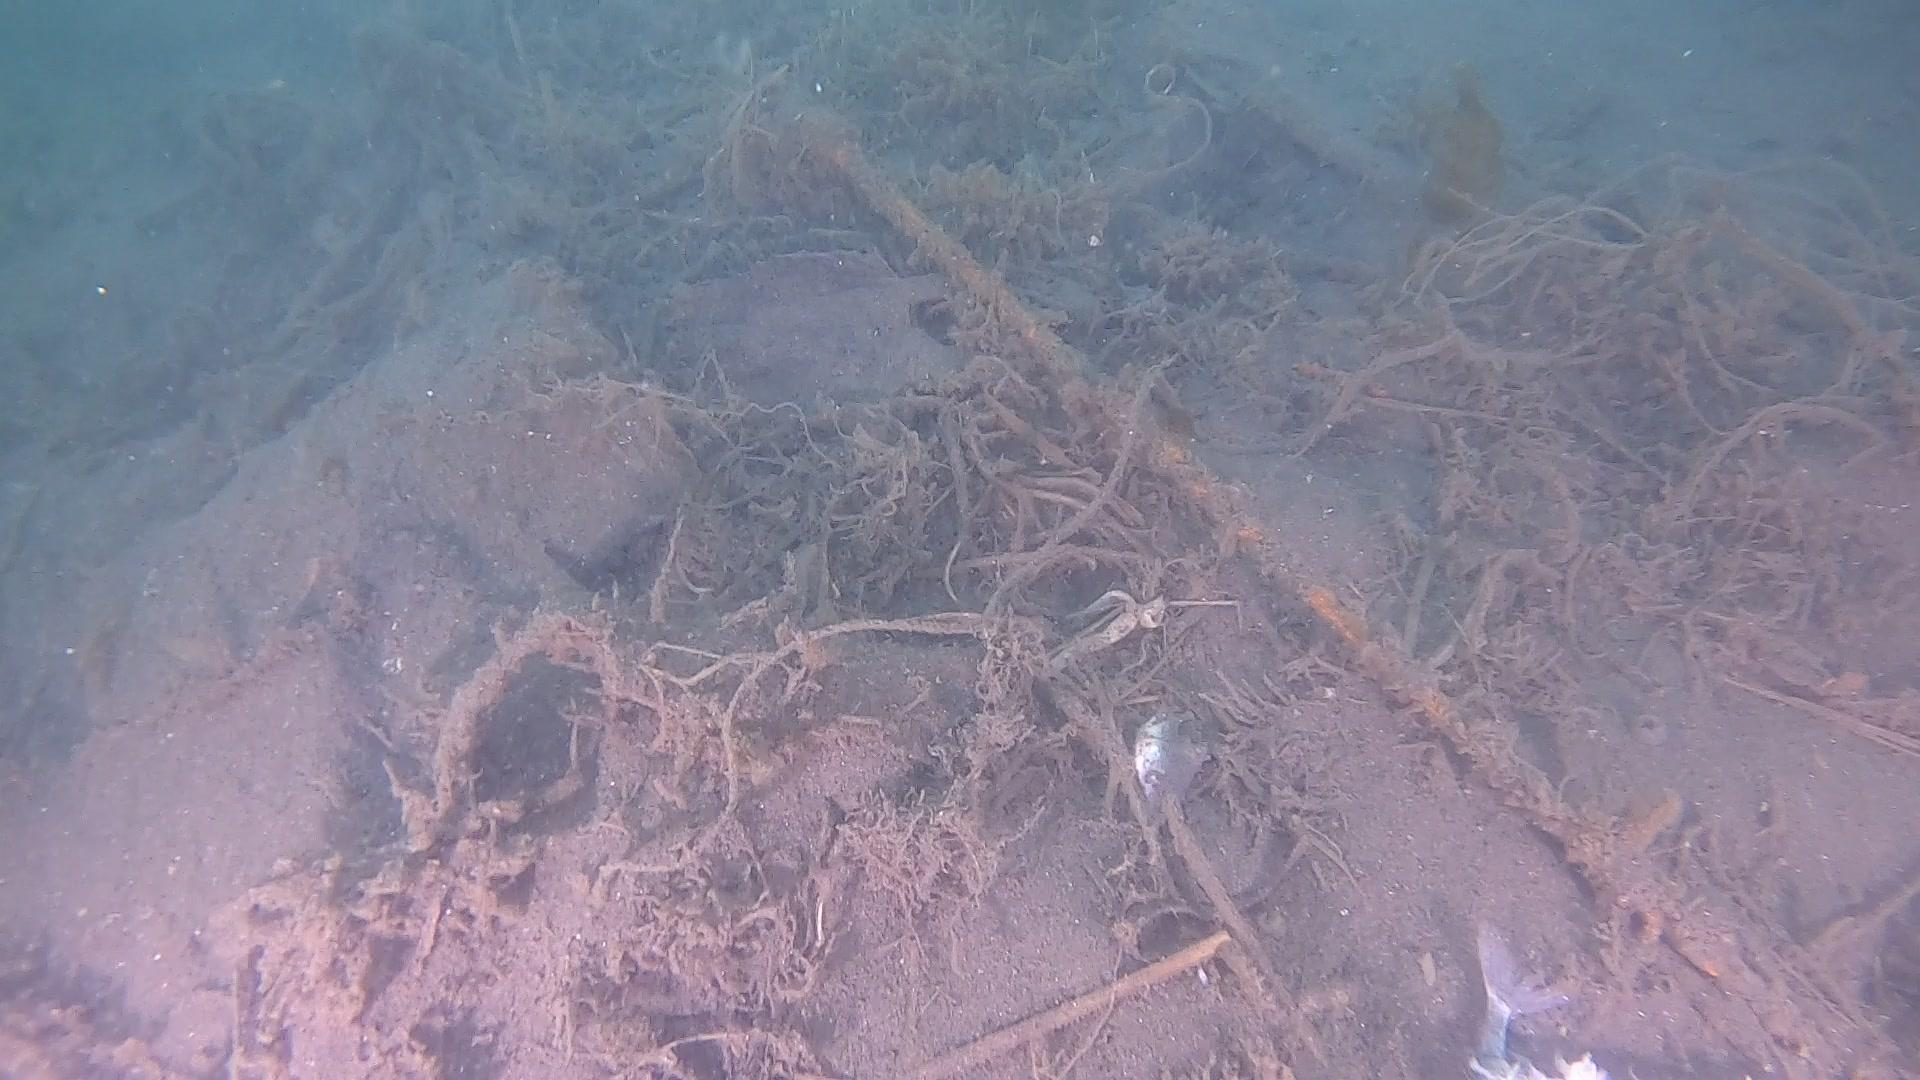rope: (752, 82, 1725, 971)
